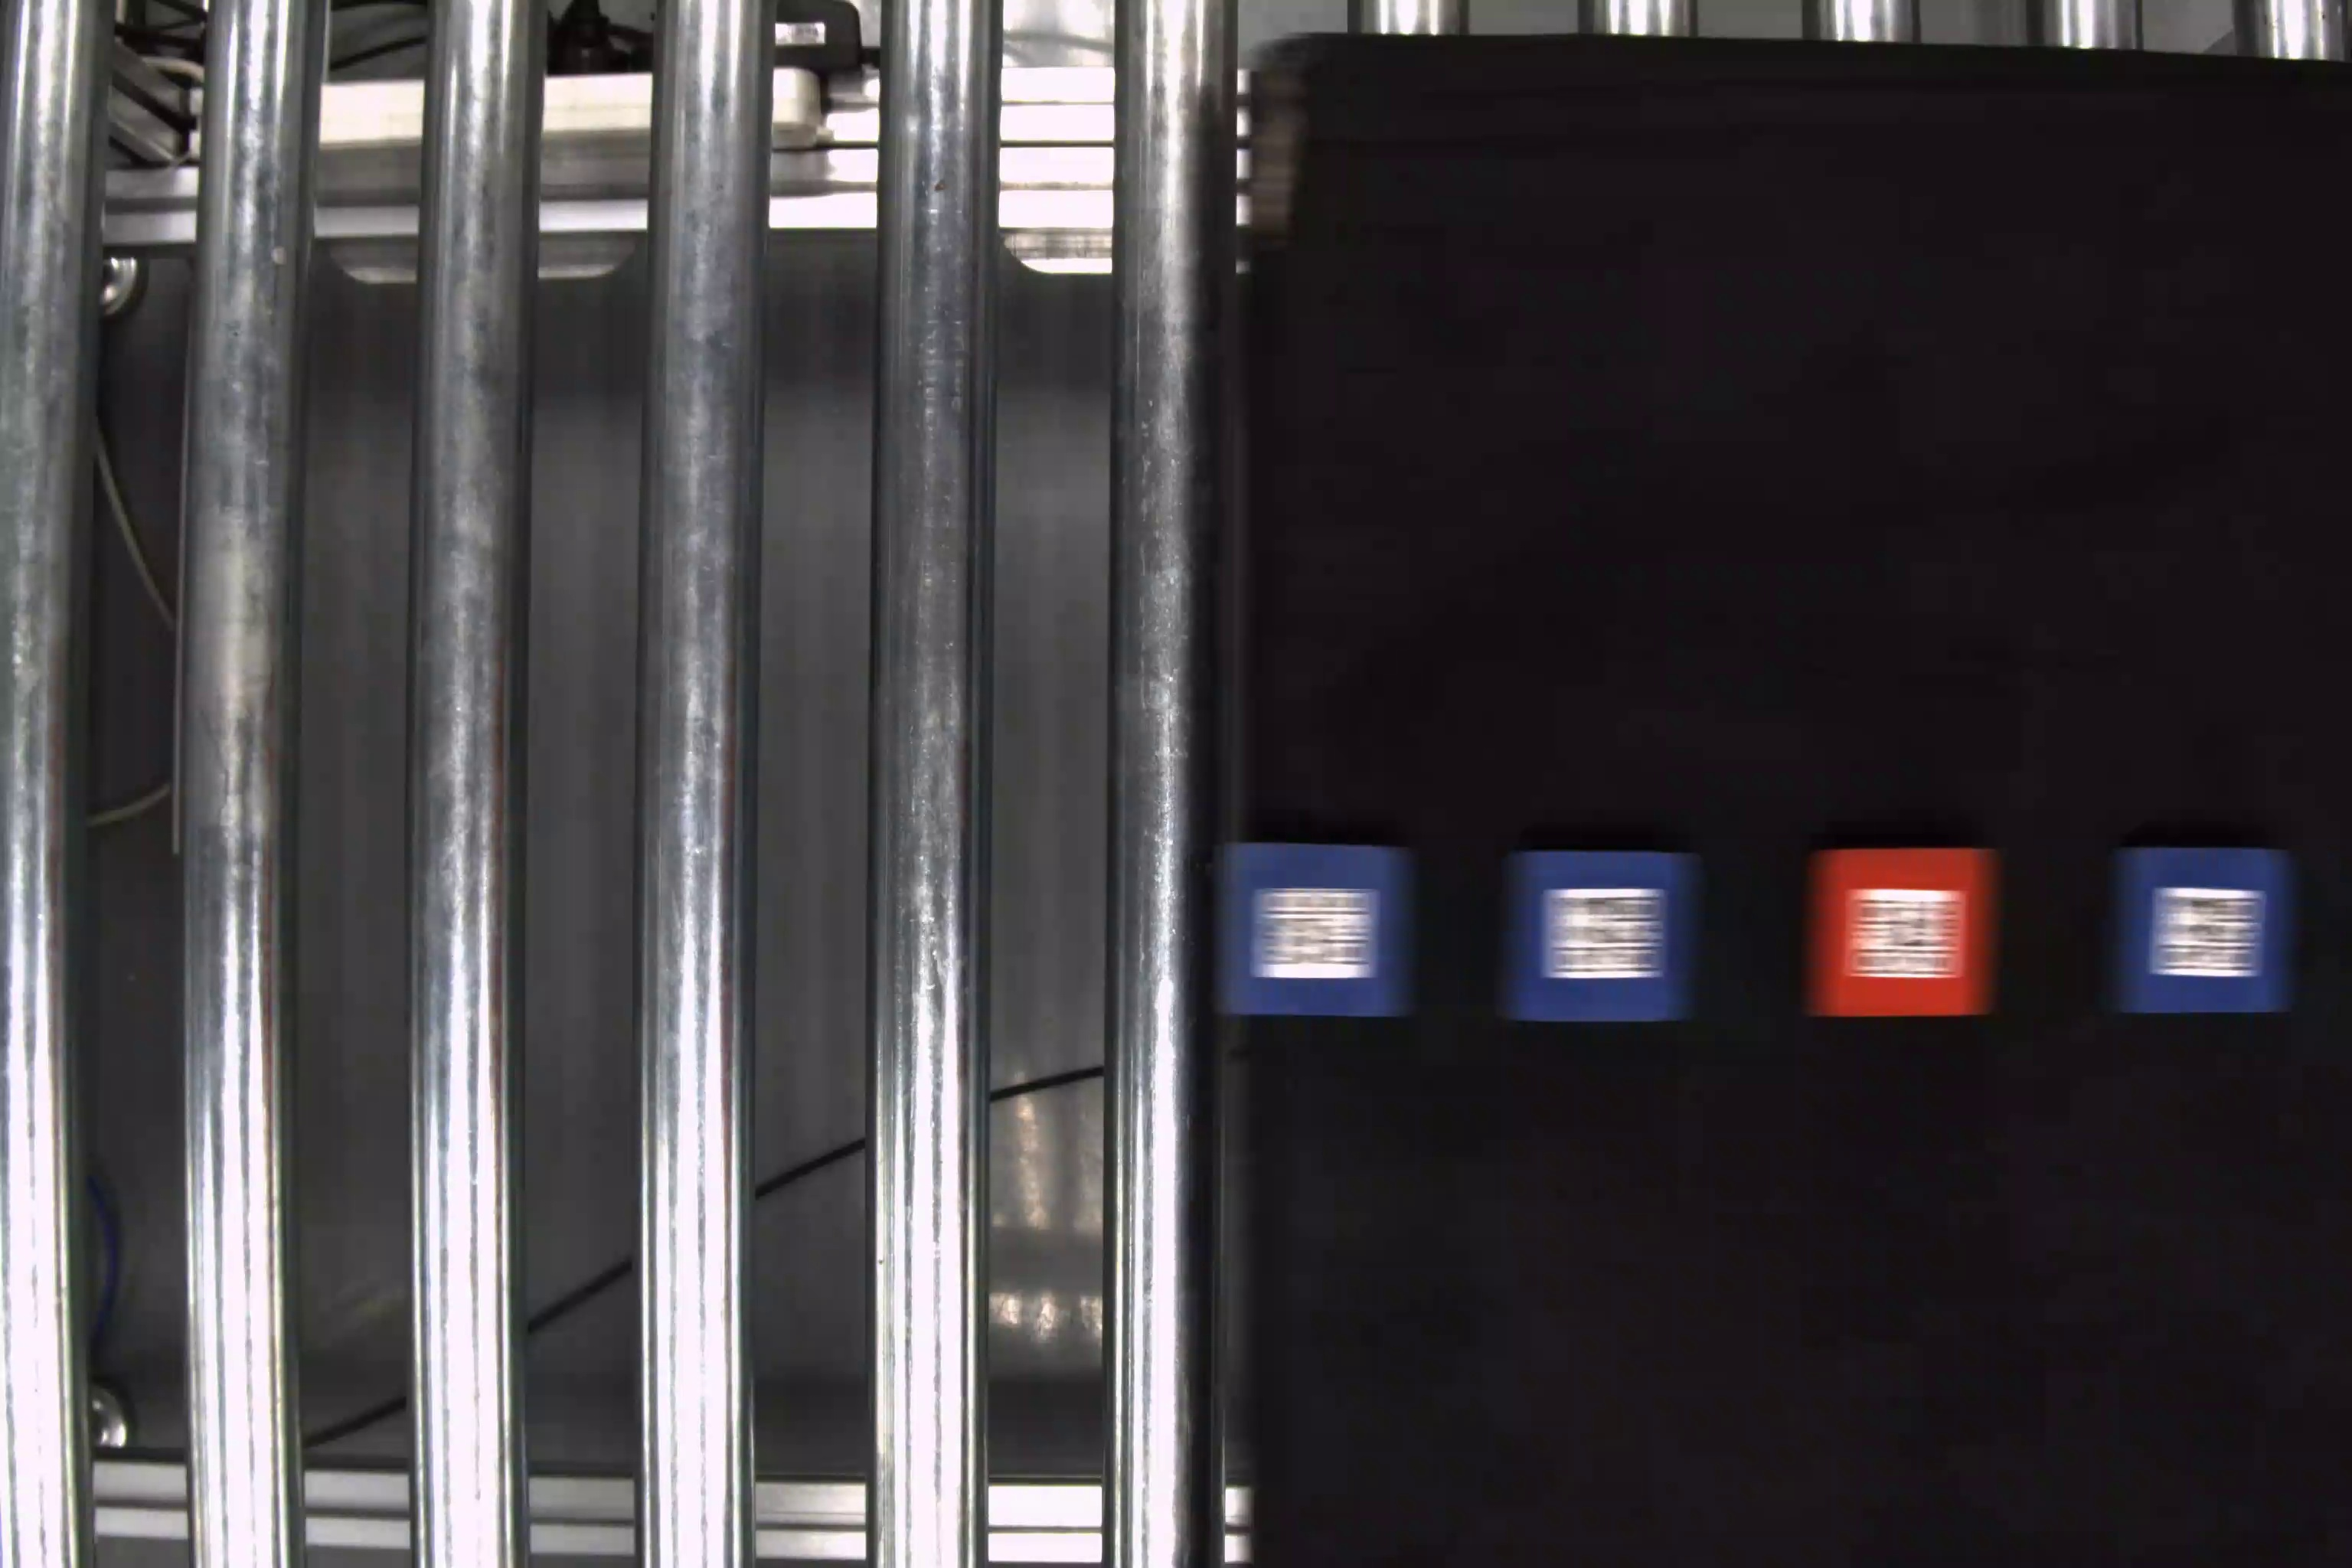wood: (1214, 833, 1423, 1025), (1501, 843, 1704, 1018), (2110, 843, 2303, 1018), (1806, 849, 2000, 1018)
